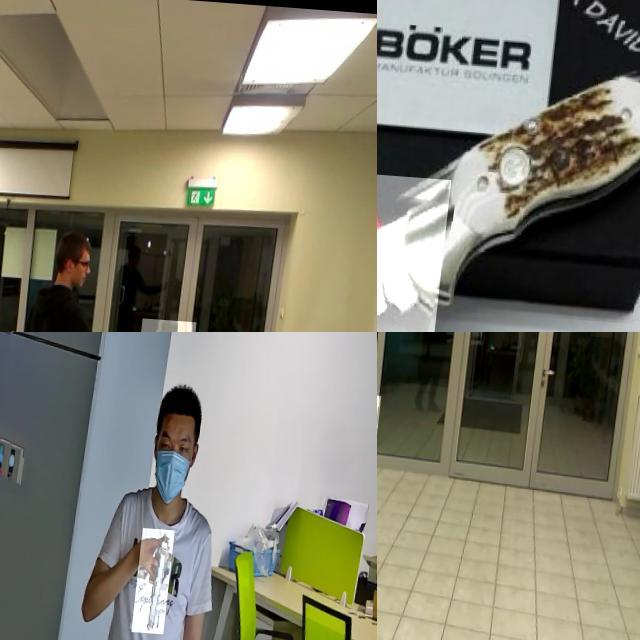-: (377, 156, 526, 332)
gun-knife-thesis - v11 Yolov5 augmented: (141, 524, 182, 628), (146, 312, 203, 332), (377, 389, 397, 431)
